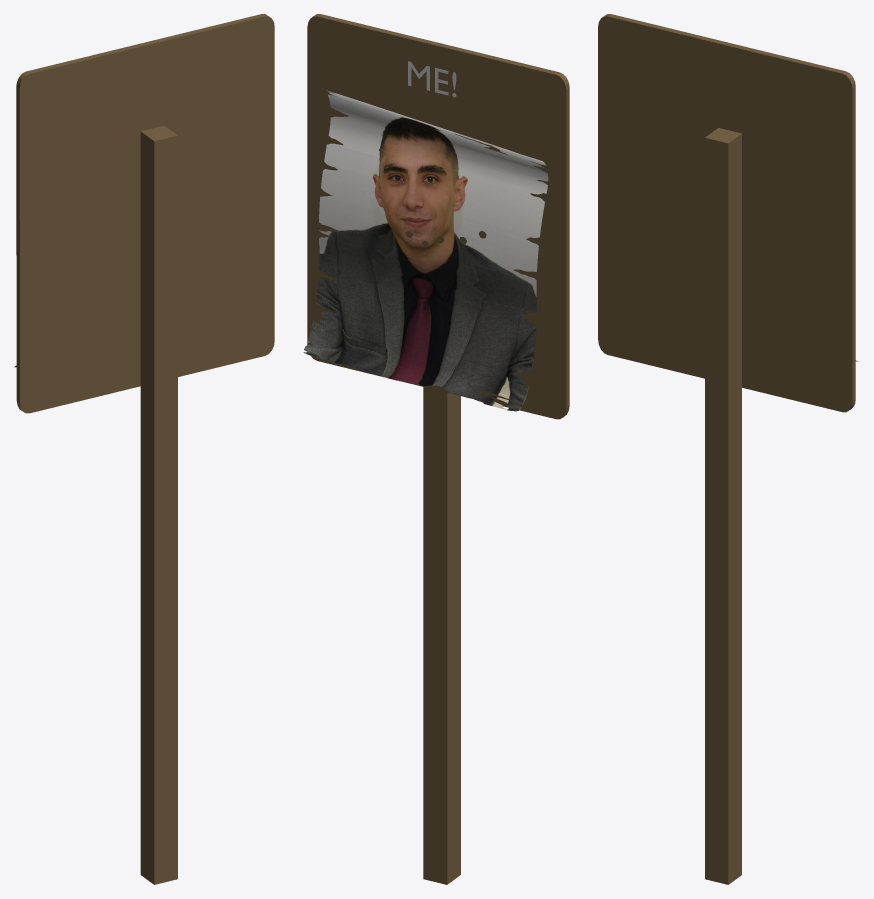
Rendered from poster1.gltf.
The picture shows the model from 3 angles, left to right: view 1: azimuth 30°, elevation 25°; view 2: azimuth 150°, elevation 25°; view 3: azimuth 330°, elevation 25°; orthographic projection.
Visible parts, largest first — view 1: Plane_Plane.001; view 2: Group_001, Plane_Plane.001, Text; view 3: Plane_Plane.001.
Boxes of the visible parts, left/top/right/bottom form: Plane_Plane.001: left=16, top=14, right=274, bottom=884; Group_001: left=303, top=88, right=548, bottom=411; Plane_Plane.001: left=307, top=14, right=569, bottom=884; Text: left=408, top=61, right=456, bottom=97; Plane_Plane.001: left=598, top=14, right=855, bottom=884.
Size of the model in its own units: 3.94 by 12.24 by 1.16.
Materials: 3 (1 with a texture image).
